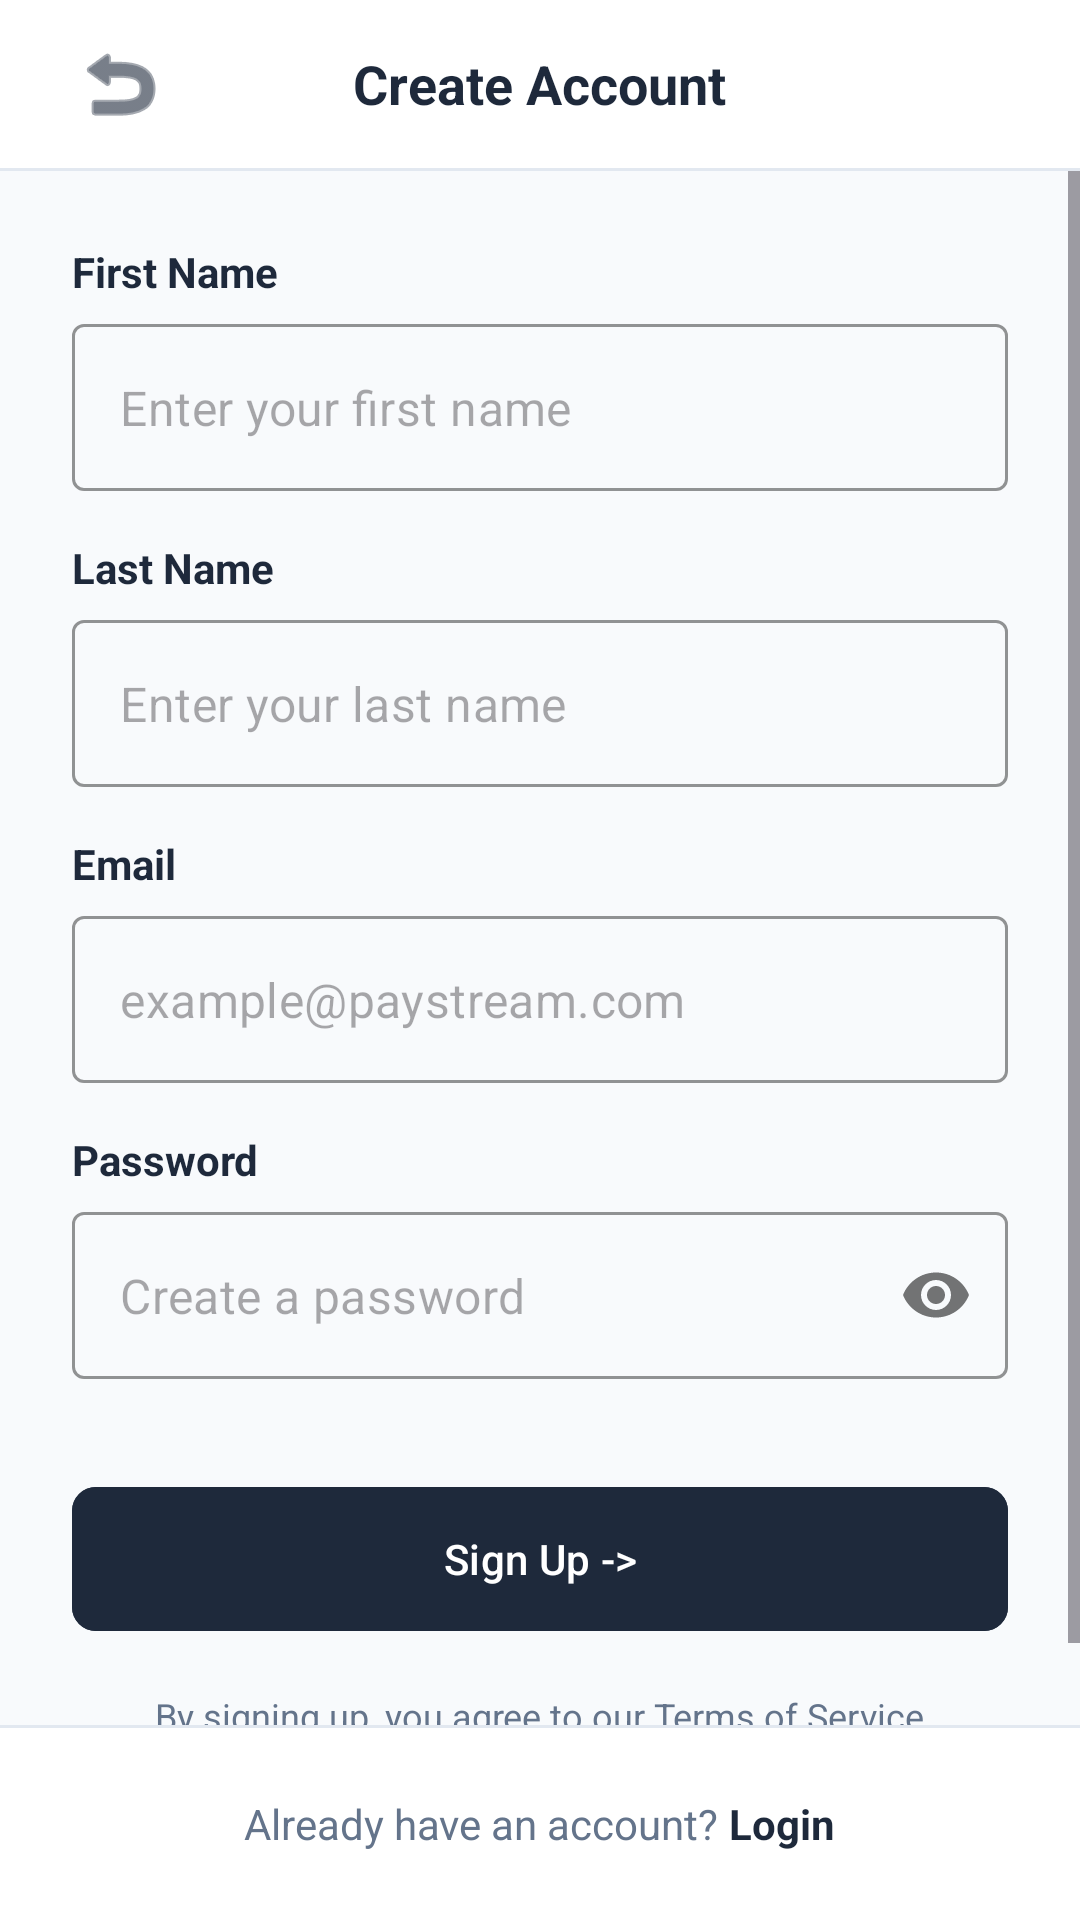

Where to tap for icons on this 1080*1920 app screen, as (x=x, y=y):
Back: (x=121, y=84)
